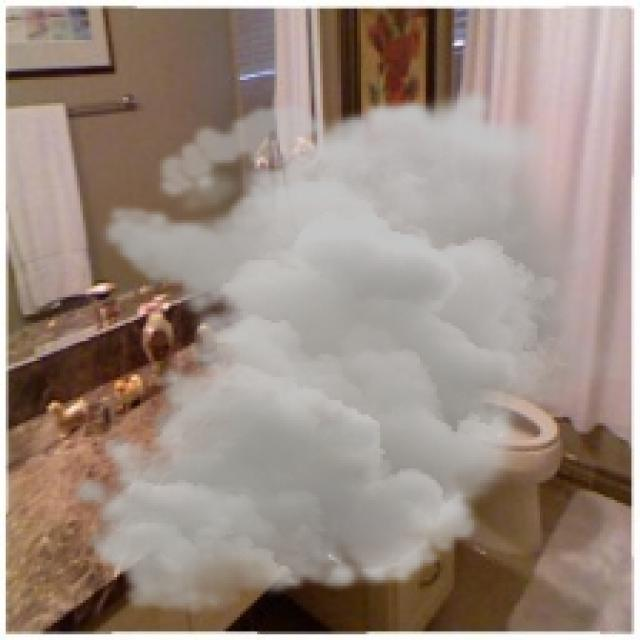smoke: (66, 86, 623, 617)
